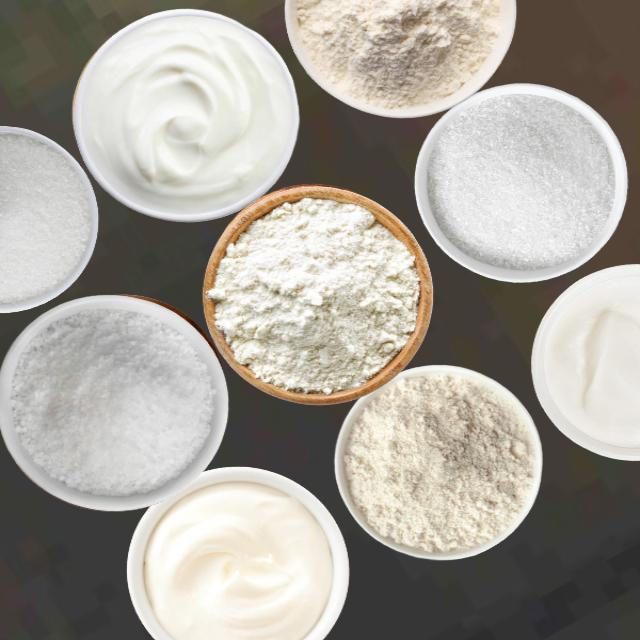Flour: (206, 196, 420, 394), (343, 371, 533, 553), (292, 0, 500, 109)
Sugar: (9, 307, 214, 496), (427, 92, 615, 270), (0, 128, 94, 308)
